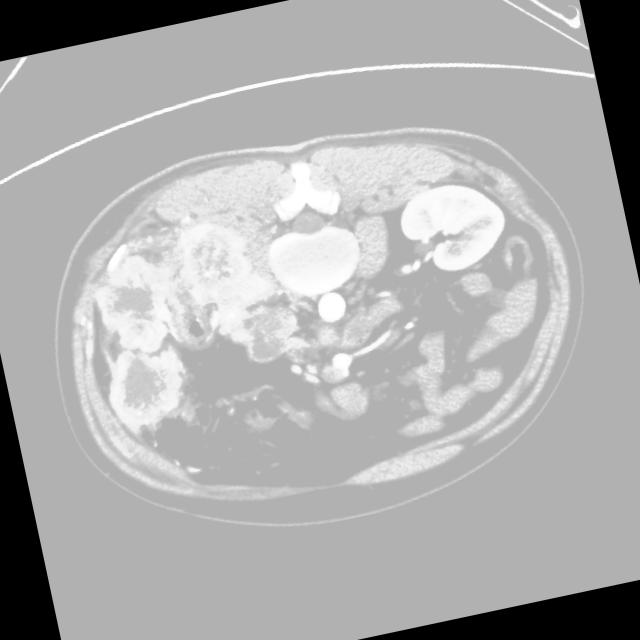TUMOR: (62, 107, 605, 466)
